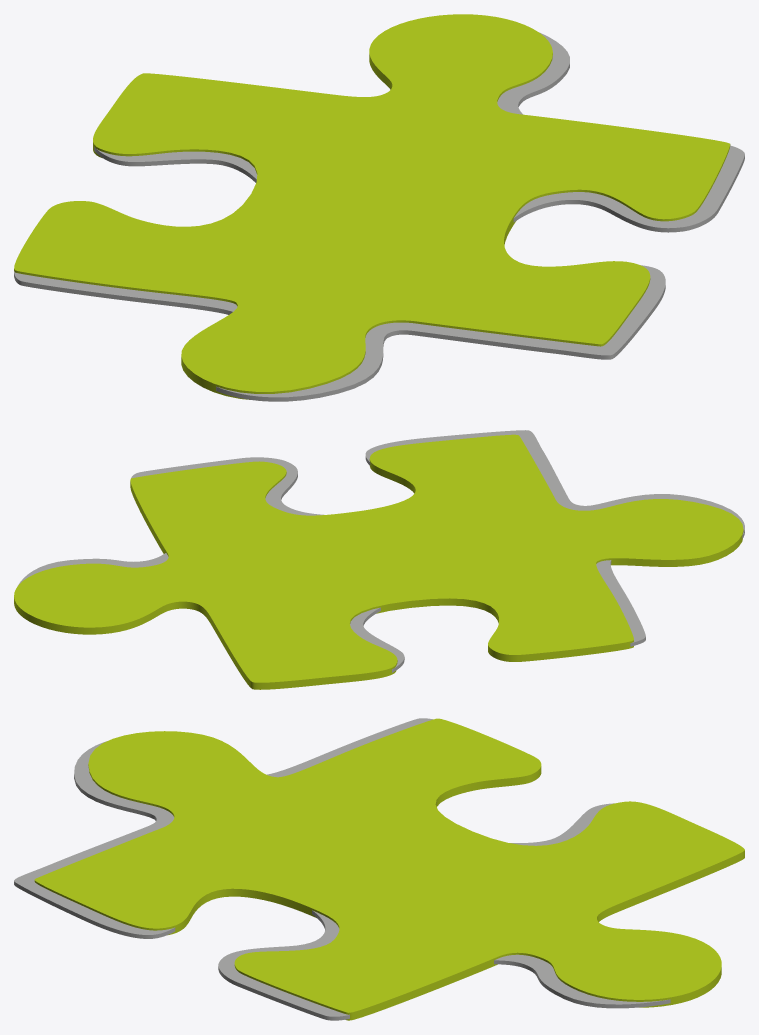
File: emoji_u1f9e9.glb
3 views of the same model, one above another, from view 1: azimuth 30°, elevation 25°; view 2: azimuth 150°, elevation 25°; view 3: azimuth 270°, elevation 25° (orthographic). The views are drawn at different scales.
Parts seen in each view (by area): view 1: emoji_u1f9e9; view 2: emoji_u1f9e9; view 3: emoji_u1f9e9.
Part boxes in pixels (bbox=[...]): emoji_u1f9e9: bbox=[14, 14, 744, 401]; emoji_u1f9e9: bbox=[14, 430, 744, 689]; emoji_u1f9e9: bbox=[14, 718, 744, 1020].
Bounding box in the file's own units: 0.0327 × 0.0004 × 0.0339.
